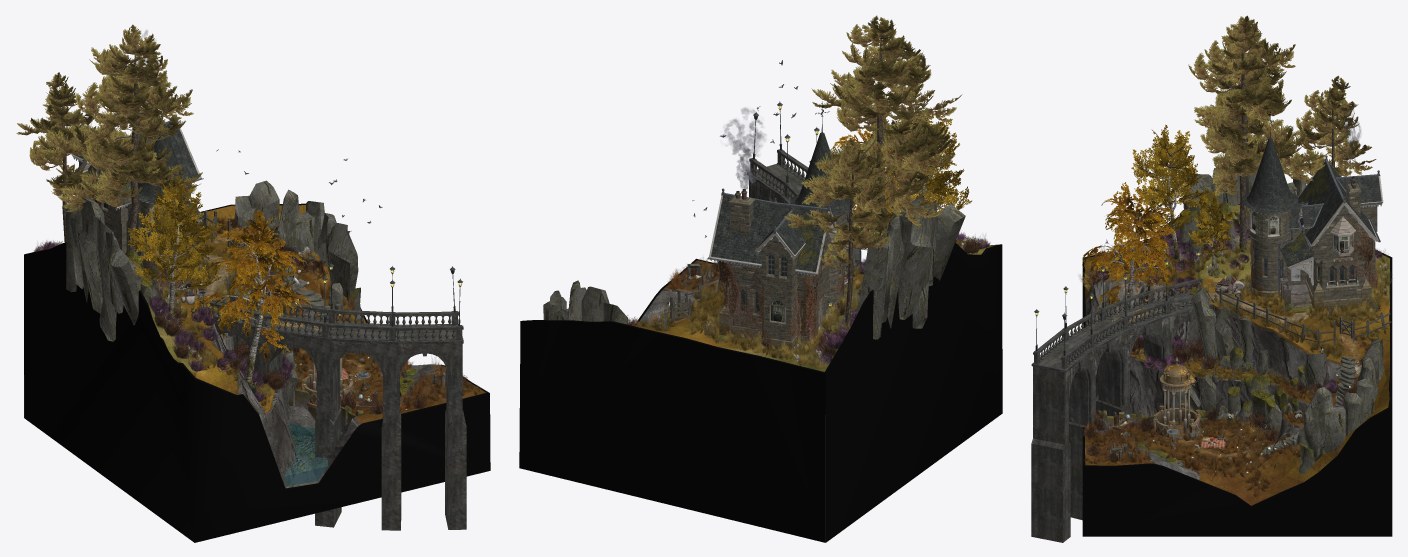
Rendered from grandmas_house.glb.
The picture shows the model from 3 angles, left to right: view 1: azimuth 30°, elevation 25°; view 2: azimuth 150°, elevation 25°; view 3: azimuth 270°, elevation 25°; orthographic projection. The views are drawn at different scales.
Visible parts, largest first — view 1: SM_ground_plane, SM_bridge, SM_rocks, SM_big_pine, SM_vegitation, SM_weeping_birch, SM_big_birch, SM_house, SM_small_pine, SM_water, SM_stone_props, SM_gazebo.003 (+1 smaller); view 2: SM_ground_plane, SM_house, SM_big_pine, SM_rocks, SM_vegitation, SM_small_pine, SM_bridge, SM_decals, SM_big_birch, SM_fence; view 3: SM_ground_plane, SM_vegitation, SM_bridge, SM_house, SM_rocks, SM_big_pine, SM_weeping_birch, SM_big_birch, SM_small_pine, SM_gazebo.003, SM_decals, SM_small_birch (+3 smaller).
Part boxes in pixels (bbox=[...]): SM_ground_plane: bbox=[24, 203, 490, 542]; SM_bridge: bbox=[204, 298, 466, 530]; SM_rocks: bbox=[65, 180, 417, 472]; SM_big_pine: bbox=[39, 24, 202, 251]; SM_vegitation: bbox=[34, 215, 481, 414]; SM_weeping_birch: bbox=[190, 210, 311, 394]; SM_big_birch: bbox=[127, 177, 222, 324]; SM_house: bbox=[71, 112, 204, 292]; SM_small_pine: bbox=[16, 72, 103, 242]; SM_water: bbox=[284, 423, 327, 485]; SM_stone_props: bbox=[289, 373, 445, 426]; SM_gazebo.003: bbox=[301, 358, 353, 408]; SM_ground_plane: bbox=[519, 239, 1002, 542]; SM_house: bbox=[707, 101, 854, 352]; SM_big_pine: bbox=[801, 15, 962, 237]; SM_rocks: bbox=[543, 197, 965, 342]; SM_vegitation: bbox=[626, 213, 990, 368]; SM_small_pine: bbox=[784, 139, 896, 329]; SM_bridge: bbox=[747, 149, 861, 270]; SM_decals: bbox=[724, 108, 825, 272]; SM_big_birch: bbox=[886, 106, 971, 212]; SM_fence: bbox=[664, 275, 724, 331]; SM_ground_plane: bbox=[1082, 204, 1392, 536]; SM_vegitation: bbox=[1078, 218, 1392, 497]; SM_bridge: bbox=[1031, 278, 1217, 542]; SM_house: bbox=[1242, 111, 1383, 313]; SM_rocks: bbox=[1128, 156, 1384, 474]; SM_big_pine: bbox=[1188, 15, 1329, 251]; SM_weeping_birch: bbox=[1082, 182, 1176, 311]; SM_big_birch: bbox=[1131, 124, 1213, 267]; SM_small_pine: bbox=[1283, 75, 1376, 183]; SM_gazebo.003: bbox=[1153, 357, 1200, 440]; SM_decals: bbox=[1066, 105, 1360, 433]; SM_small_birch: bbox=[1188, 192, 1234, 271].
Size of the model in its own units: 24.02 by 30.88 by 23.74.
Materials: 45 (41 with a texture image).
